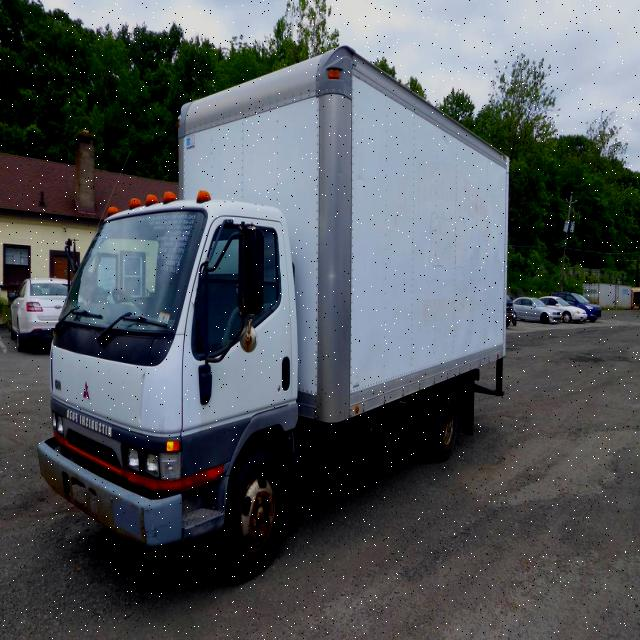truck: (38, 48, 518, 576)
